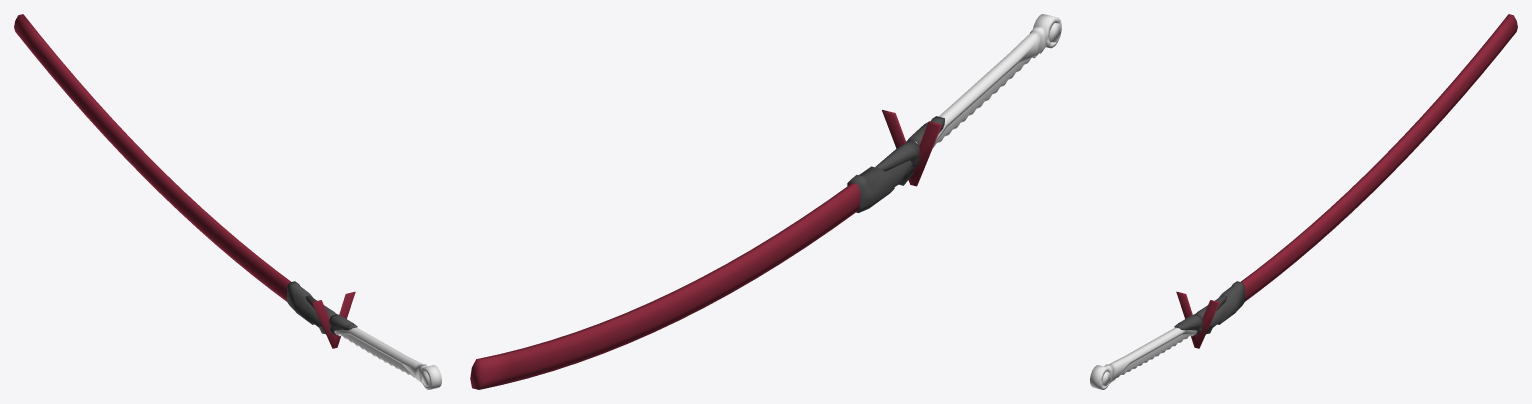
Rendered from vKatana_Long.fbx.
The picture shows the model from 3 angles, left to right: view 1: azimuth 30°, elevation 25°; view 2: azimuth 150°, elevation 25°; view 3: azimuth 330°, elevation 25°; orthographic projection. The views are drawn at different scales.
Parts seen in each view (by area): view 1: vKanata_Long_Holder, vKanata_Long; view 2: vKanata_Long_Holder, vKanata_Long; view 3: vKanata_Long_Holder, vKanata_Long.
Part boxes in pixels (x1,y1,x2,y2): vKanata_Long_Holder: [14, 14, 325, 334]; vKanata_Long: [305, 291, 441, 389]; vKanata_Long_Holder: [470, 160, 913, 389]; vKanata_Long: [875, 14, 1061, 186]; vKanata_Long_Holder: [1206, 14, 1517, 334]; vKanata_Long: [1090, 291, 1226, 389].
Size of the model in its own units: 0.0826 by 0.1879 by 1.38.
